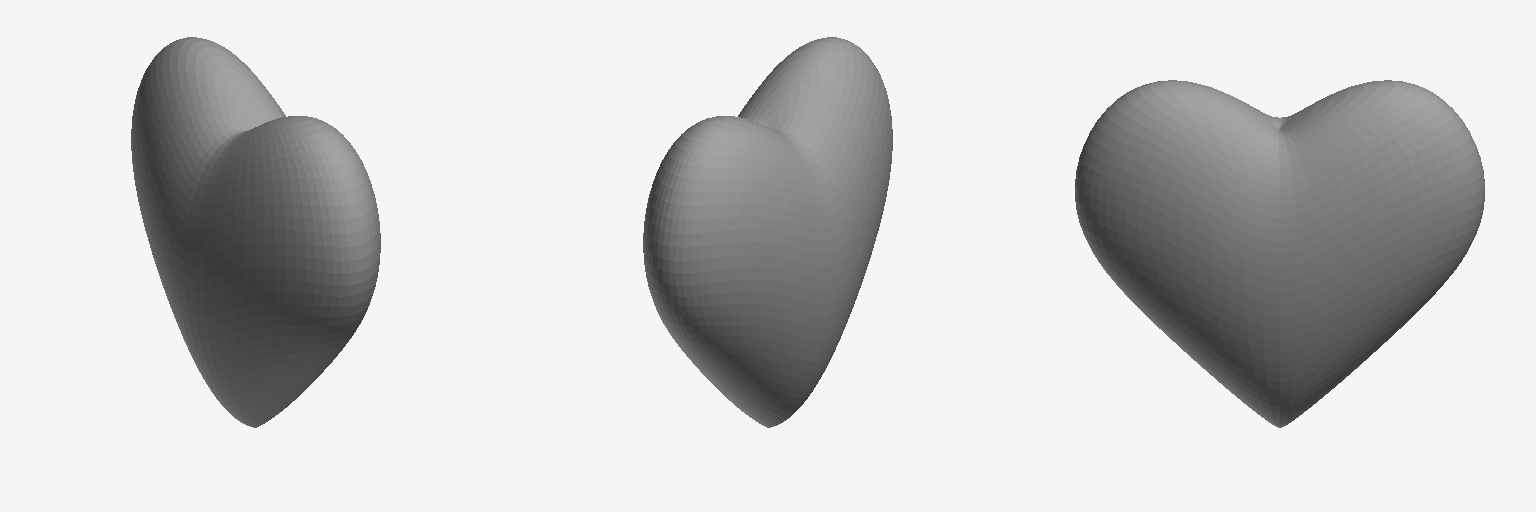
The model's file is Heart.obj.
The picture shows the model from 3 angles: view 1: azimuth 30°, elevation 25°; view 2: azimuth 150°, elevation 25°; view 3: azimuth 270°, elevation 25°; orthographic projection.
Parts seen in each view (by area): view 1: Heart; view 2: Heart; view 3: Heart.
Boxes of the visible parts, <box> form: Heart: <box>131,37,380,427</box>; Heart: <box>643,37,892,427</box>; Heart: <box>1075,80,1484,427</box>.
Bounding box in the file's own units: 59.95 × 139 × 150.